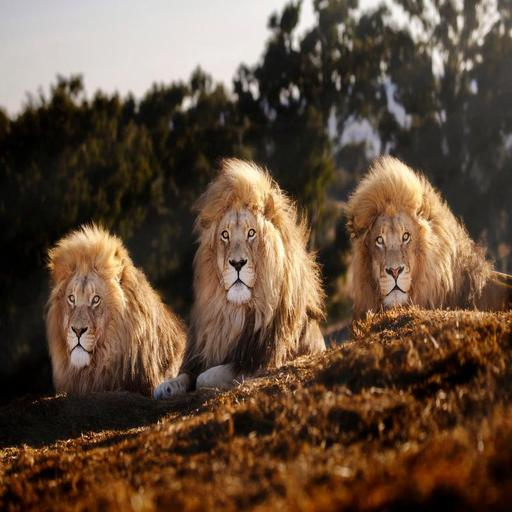Lion: (31, 218, 242, 408), (182, 153, 335, 413), (316, 148, 512, 329)
